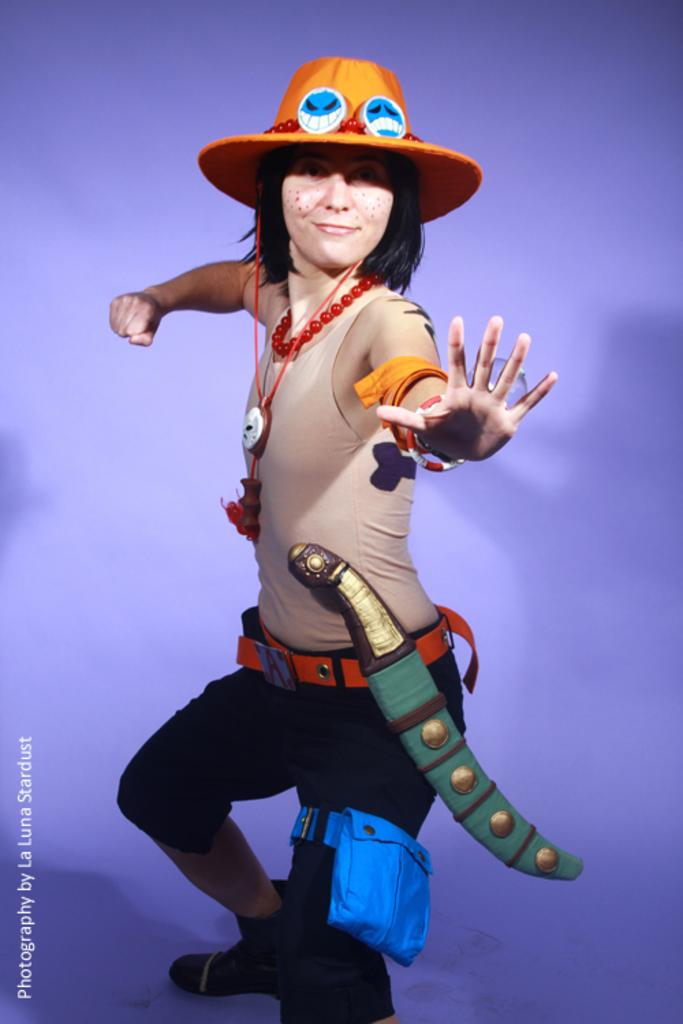Hat: (195, 52, 484, 538)
